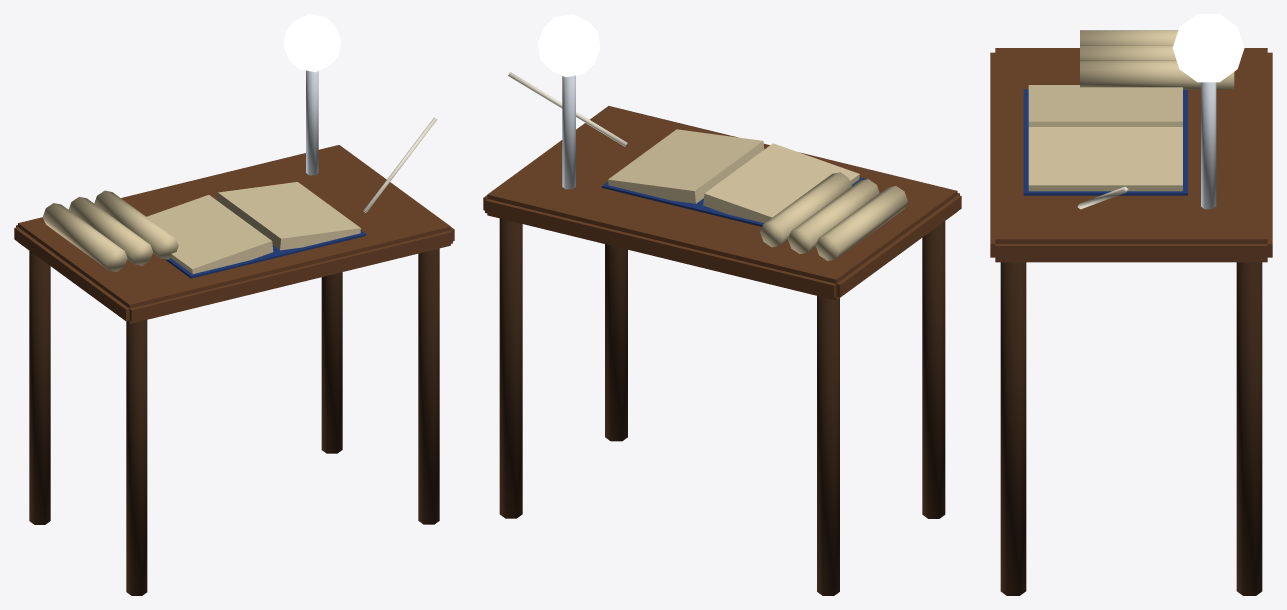
File: elven-desk.glb
3 renders of one model, left to right at view 1: azimuth 30°, elevation 25°; view 2: azimuth 150°, elevation 25°; view 3: azimuth 270°, elevation 25°, orthographic. The views are drawn at different scales.
Visible parts, largest first — view 1: Model Mesh; view 2: Model Mesh; view 3: Model Mesh.
Boxes of the visible parts, <box> form: Model Mesh: <box>14,14,454,595</box>; Model Mesh: <box>483,14,961,595</box>; Model Mesh: <box>990,14,1272,595</box>.
Bounding box in the file's own units: 0.997 × 1.19 × 0.55.
